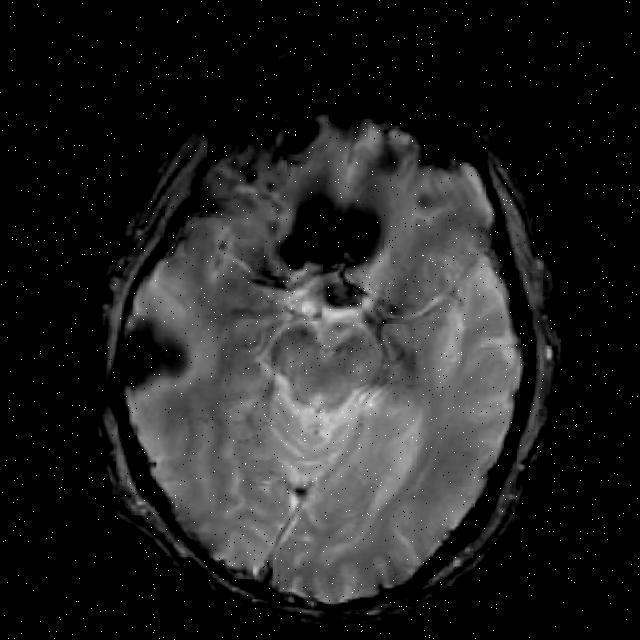LMCI: (280, 176, 408, 276)
MCI: (98, 289, 180, 450)
